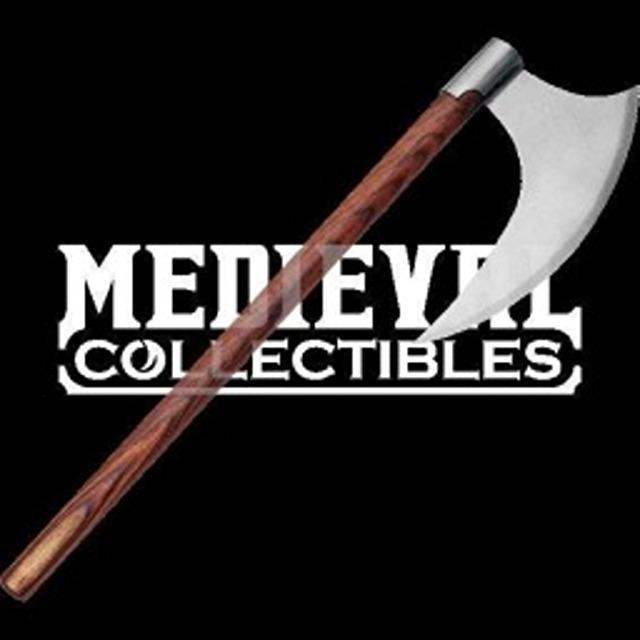ax: (1, 22, 640, 608)
